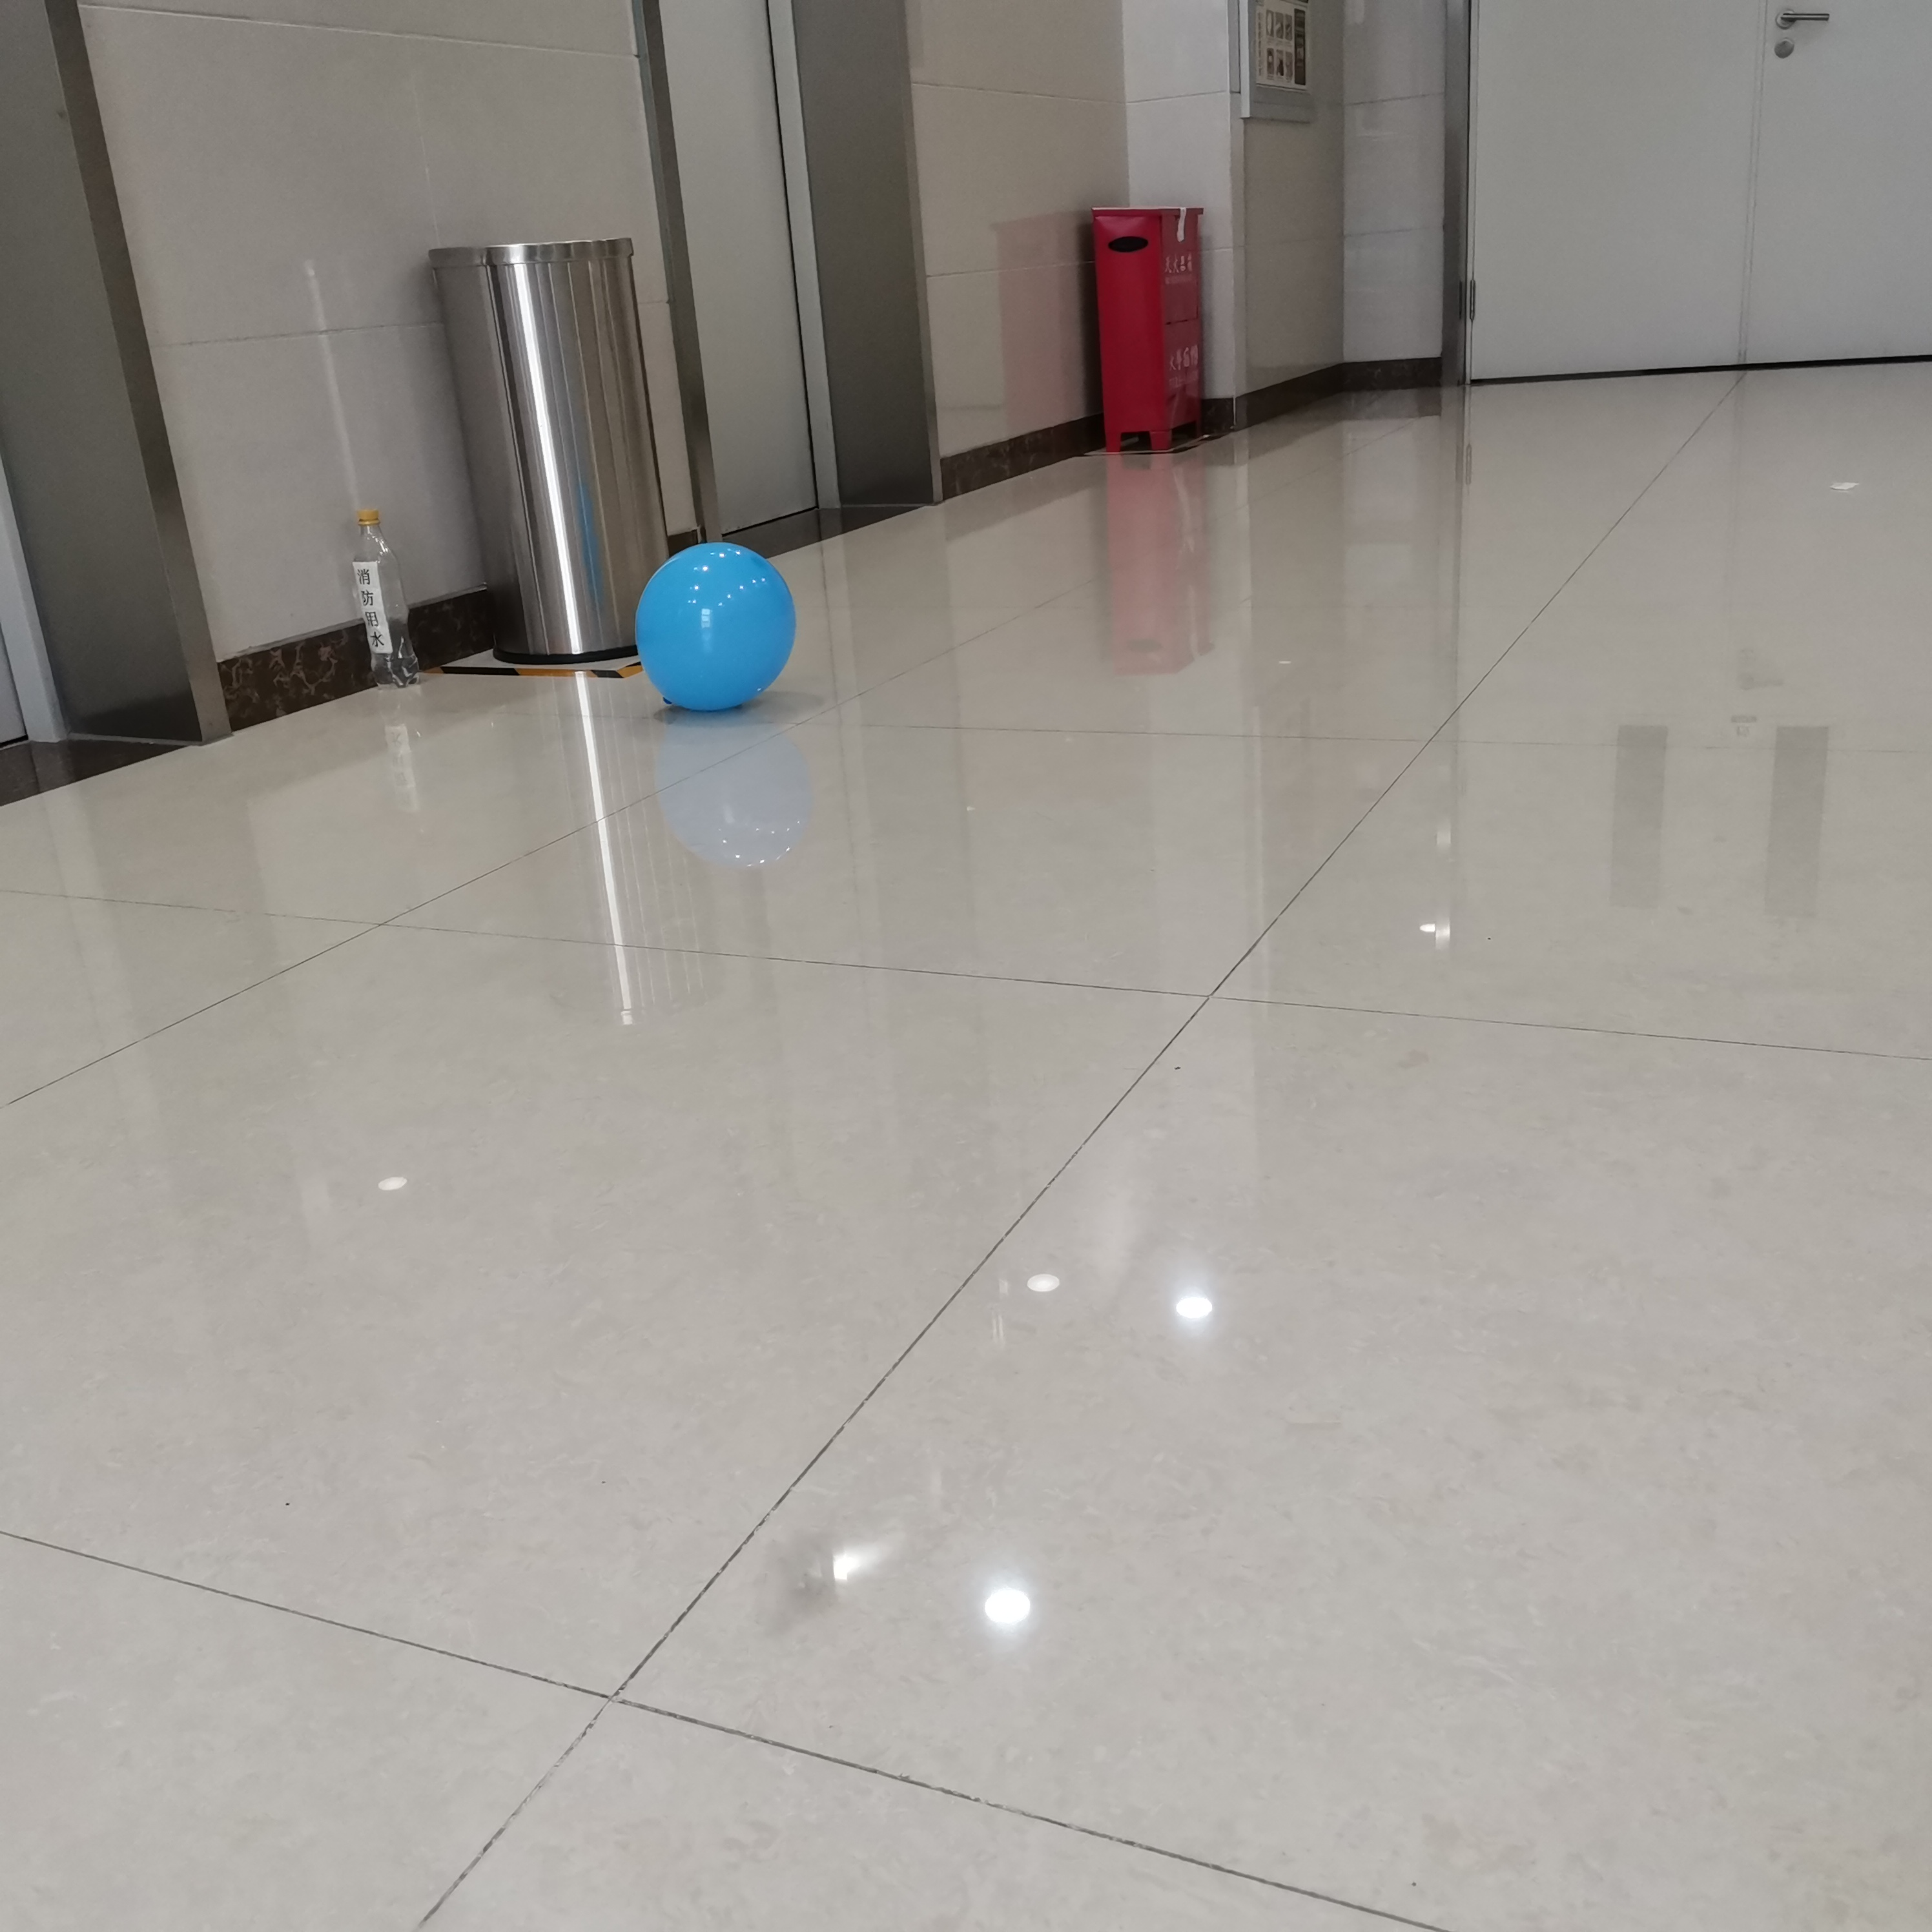balloon: (635, 545, 796, 713)
